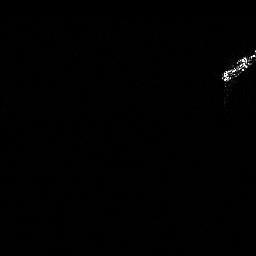ship: (217, 47, 256, 84)
